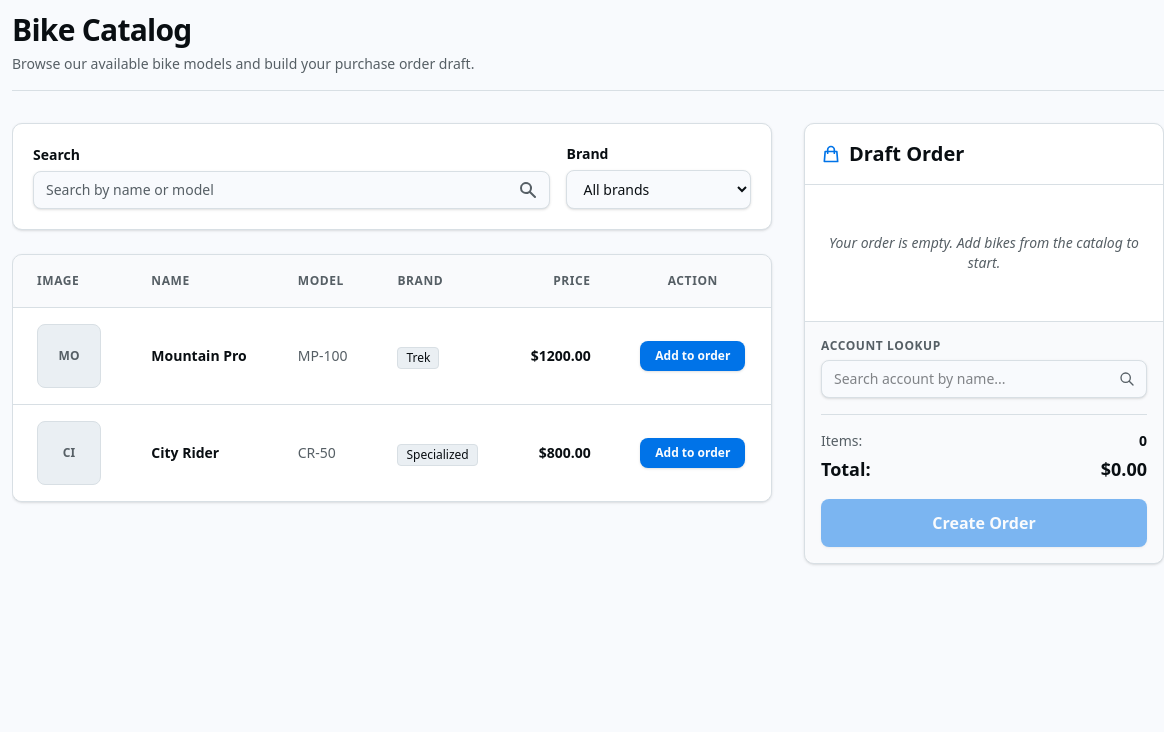
CatalogPage › adds a bike to the draft order
Click the button "Add to order" in the row of "Mountain Pro": (693,356) [640, 341, 745, 371]
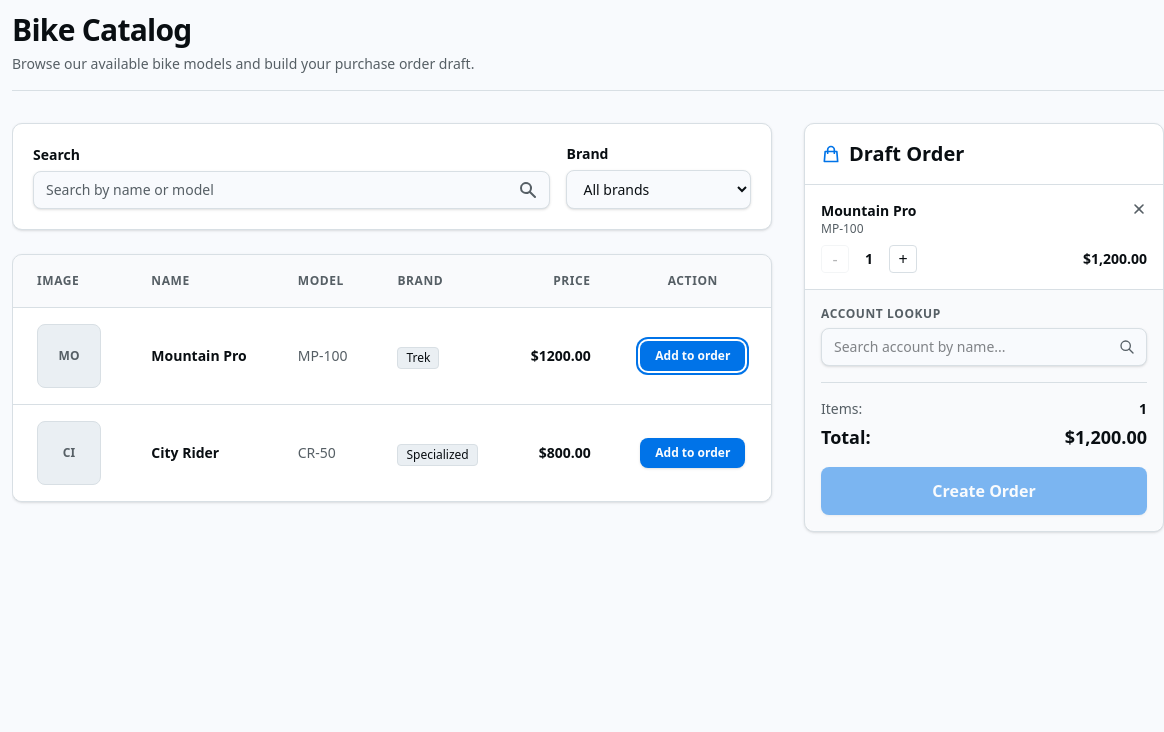
Expected: the text "Your order is empty" is gone
Expected: the button titled "Remove item" is shown, [1131, 201, 1147, 217]
